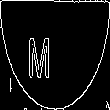M_N: (43, 29, 67, 81)
